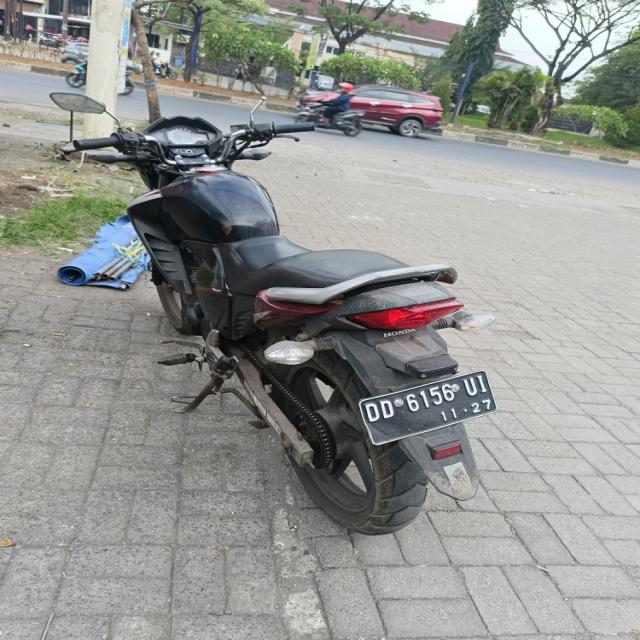plates: (352, 358, 493, 449)
